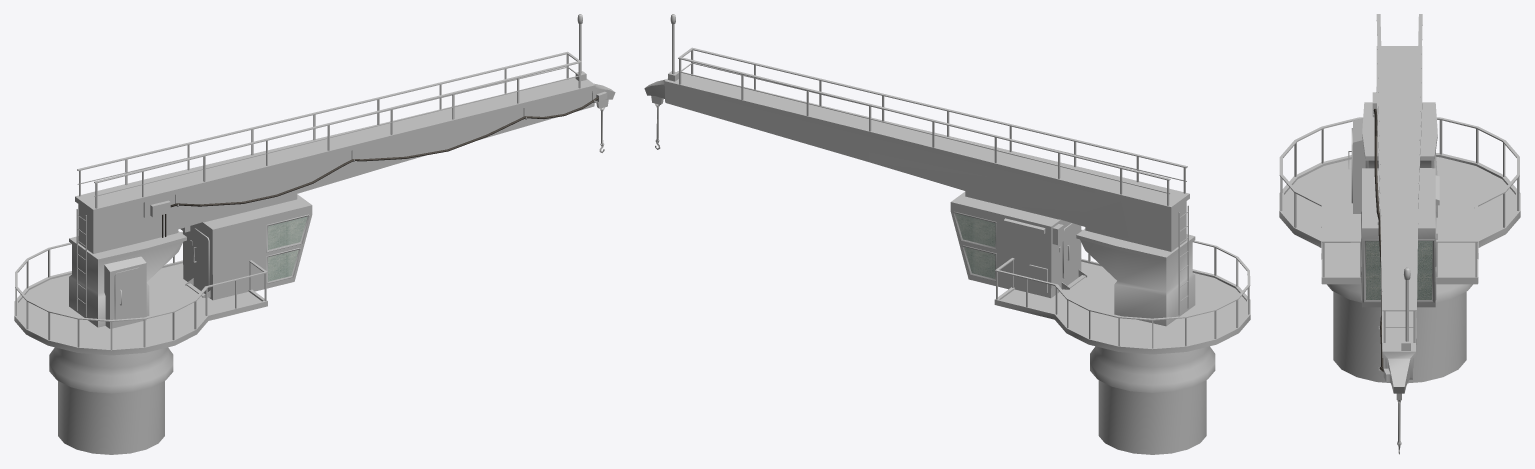
The model's file is crane.FBX.
The picture shows the model from 3 angles, left to right: view 1: azimuth 30°, elevation 25°; view 2: azimuth 150°, elevation 25°; view 3: azimuth 270°, elevation 25°; orthographic projection. The views are drawn at different scales.
Visible parts, largest first — view 1: Mesh Object; view 2: Mesh Object; view 3: Mesh Object.
Boxes of the visible parts, left/top/right/bottom form: Mesh Object: left=14, top=14, right=615, bottom=454; Mesh Object: left=644, top=14, right=1250, bottom=454; Mesh Object: left=1279, top=14, right=1520, bottom=454.
Bounding box in the file's own units: 21.51 × 10.51 × 6.16.
